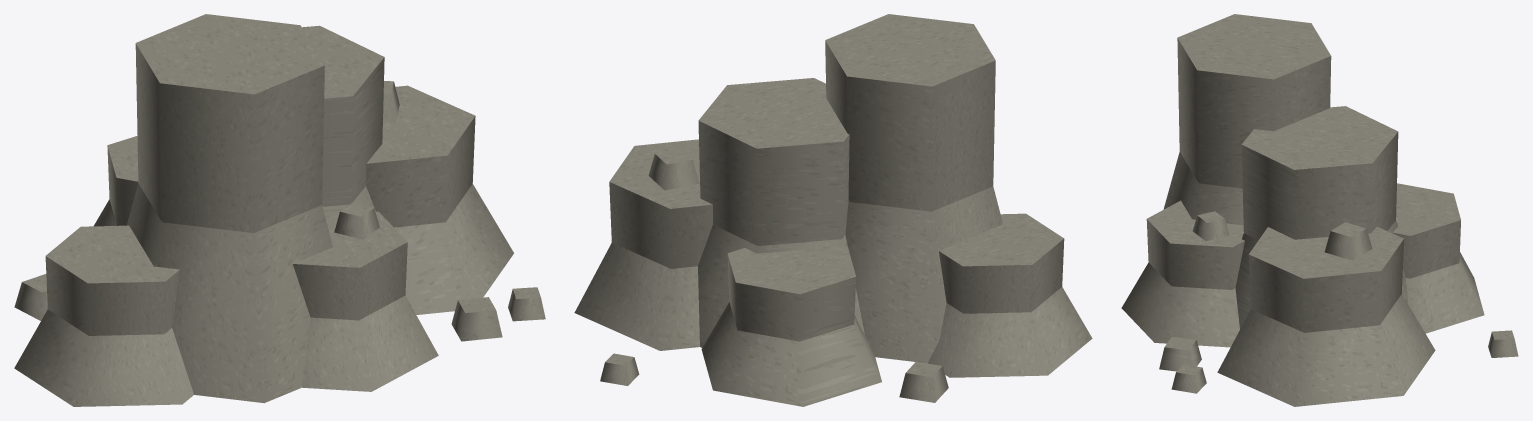
Rendered from rocks-a.gltf.
The picture shows the model from 3 angles, left to right: view 1: azimuth 30°, elevation 25°; view 2: azimuth 150°, elevation 25°; view 3: azimuth 270°, elevation 25°; orthographic projection. The views are drawn at different scales.
Parts seen in each view (by area): view 1: rocks-a; view 2: rocks-a; view 3: rocks-a.
Boxes of the visible parts, <box> form: rocks-a: <box>14,14,545,406</box>; rocks-a: <box>574,14,1092,406</box>; rocks-a: <box>1121,14,1518,406</box>.
Bounding box in the file's own units: 5.11 × 2.9 × 4.39.
1 material, 1 textured.
